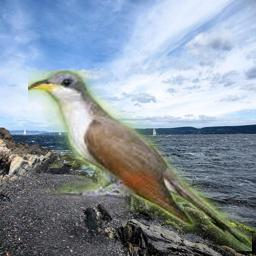Cuckoo: (28, 71, 252, 252)
